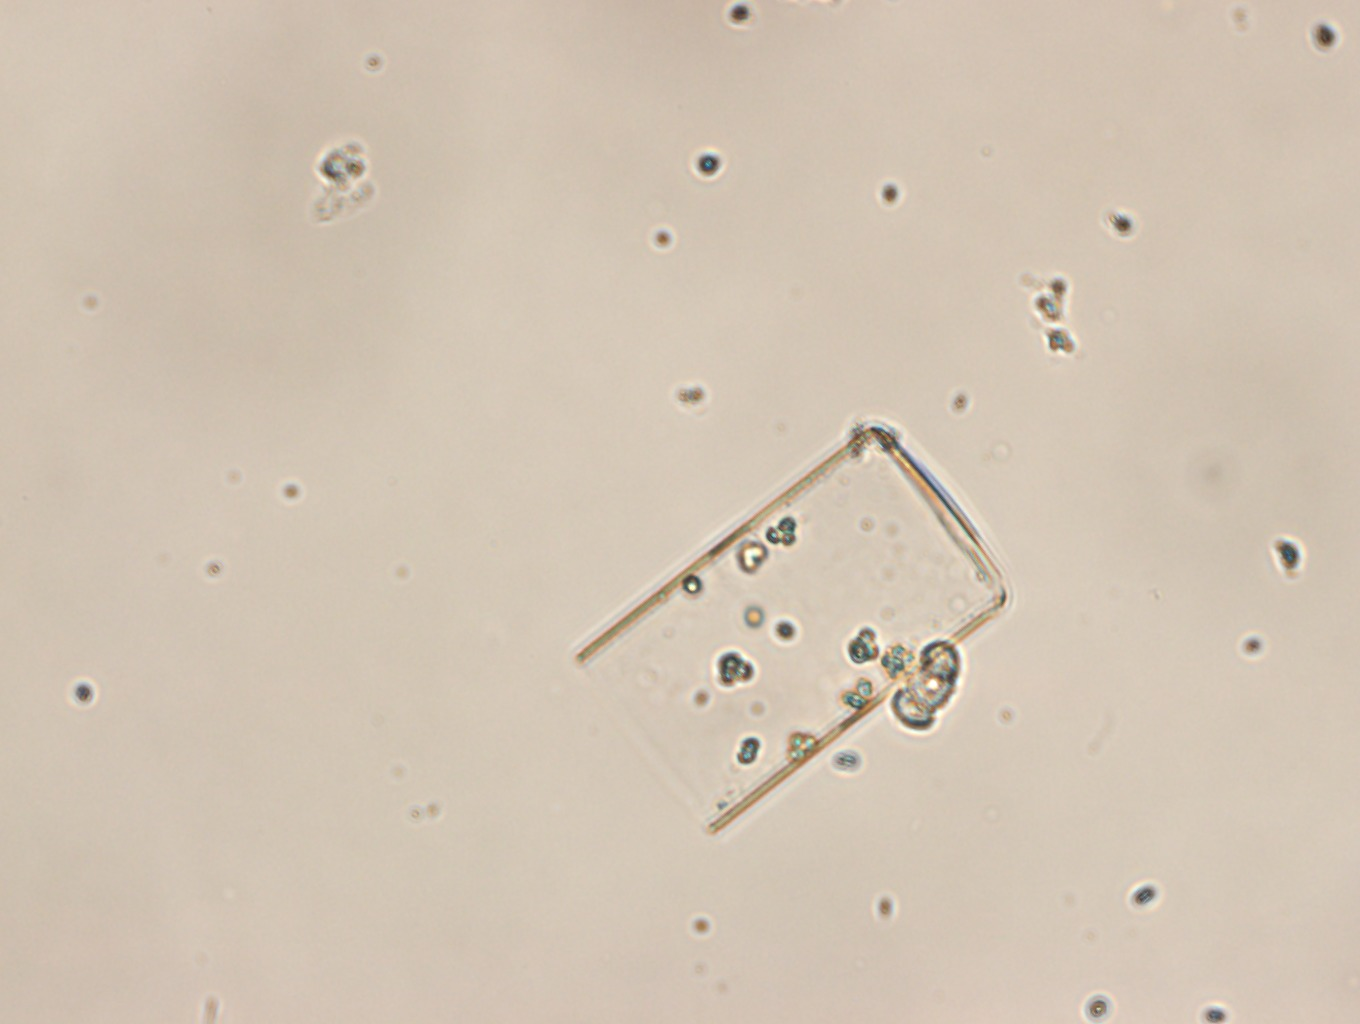guinardia flaccida: (578, 422, 1012, 836)
